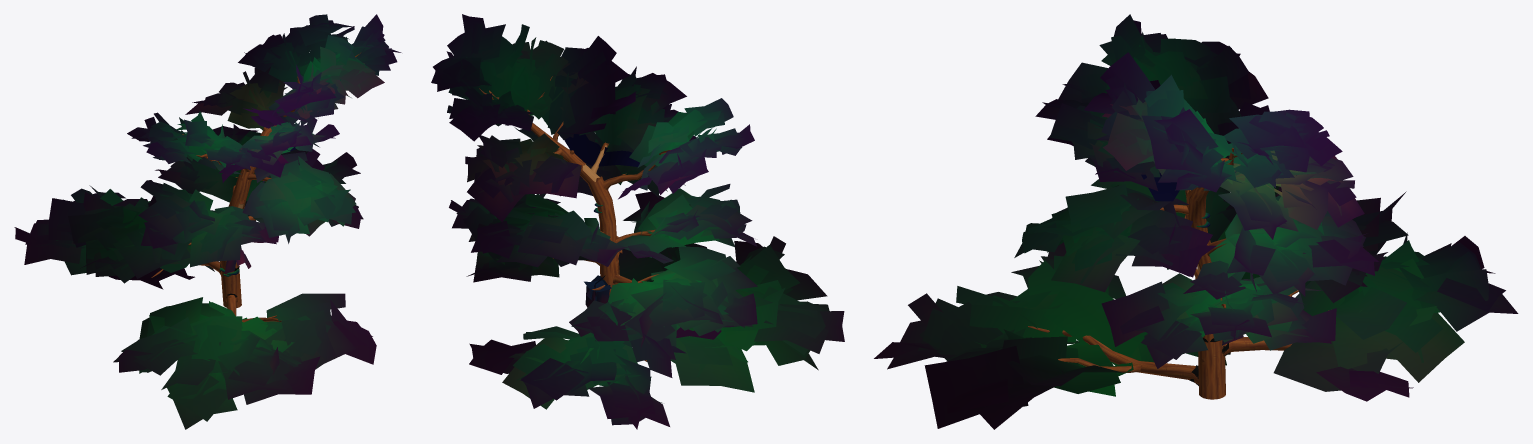
File: obj_harvests_trees_pine03_p10.fbx
The picture shows the model from 3 angles, left to right: view 1: azimuth 30°, elevation 25°; view 2: azimuth 150°, elevation 25°; view 3: azimuth 270°, elevation 25°; orthographic projection. The views are drawn at different scales.
Parts seen in each view (by area): view 1: chunk10; view 2: chunk10; view 3: chunk10.
Boxes of the visible parts, bbox=[...] form: chunk10: bbox=[14, 14, 401, 429]; chunk10: bbox=[431, 14, 844, 429]; chunk10: bbox=[874, 14, 1518, 429].
Size of the model in its own units: 69.76 by 64.29 by 84.94.
